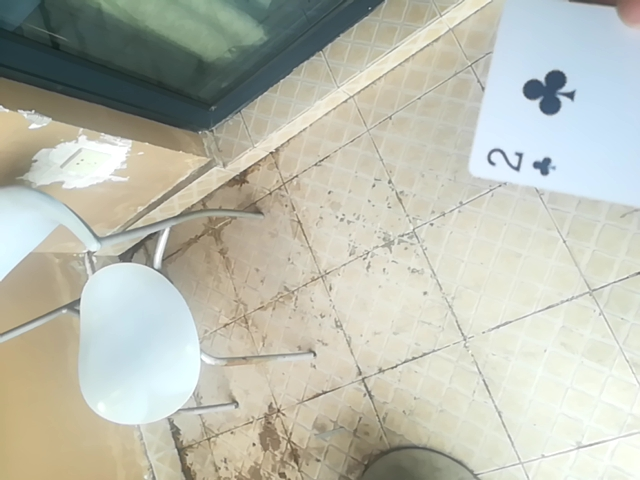mh 2: (471, 6, 639, 220)
